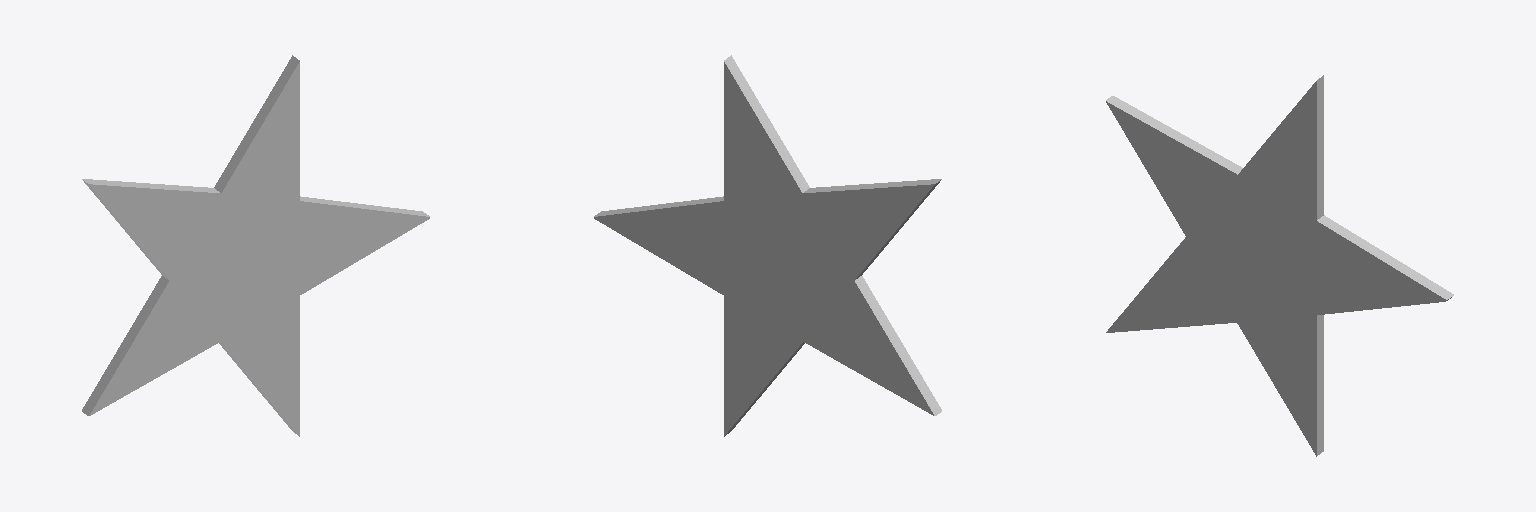
File: star.obj
3 views of the same model, side by side, from view 1: azimuth 30°, elevation 25°; view 2: azimuth 150°, elevation 25°; view 3: azimuth 330°, elevation 25° (orthographic).
Visible parts, largest first — view 1: Circle_Circle.002; view 2: Circle_Circle.002; view 3: Circle_Circle.002.
Boxes of the visible parts, <box> form: Circle_Circle.002: <box>82,55,429,436</box>; Circle_Circle.002: <box>594,55,941,436</box>; Circle_Circle.002: <box>1106,75,1453,456</box>.
Size of the model in its own units: 0.7063 by 0.7426 by 0.0271.